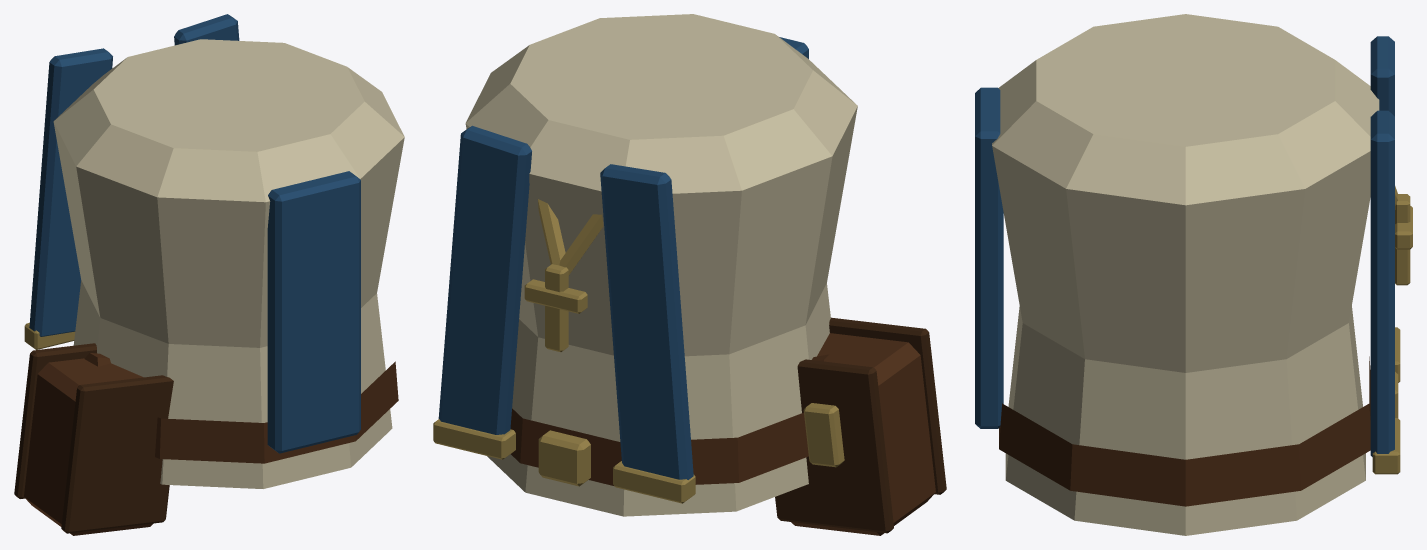
File: Body.glb
3 views of the same model, side by side, from view 1: azimuth 30°, elevation 25°; view 2: azimuth 150°, elevation 25°; view 3: azimuth 270°, elevation 25° (orthographic). The views are drawn at different scales.
Parts seen in each view (by area): view 1: Sculpture; view 2: Sculpture; view 3: Sculpture.
Boxes of the visible parts, x1,y1,x2,y2 form: Sculpture: [14, 14, 404, 535]; Sculpture: [433, 14, 946, 535]; Sculpture: [975, 14, 1412, 535].
Bounding box in the file's own units: 0.676 × 0.6627 × 0.613.
